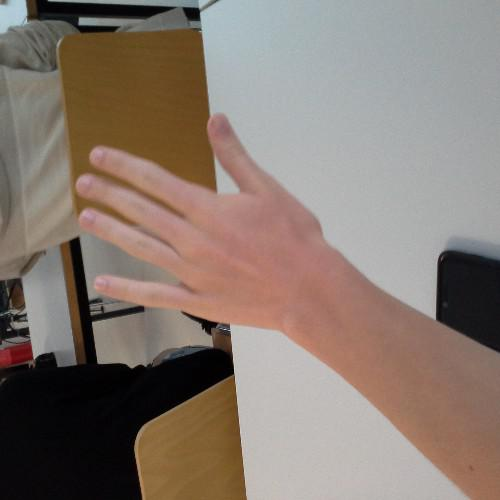paper: (73, 106, 326, 332)
